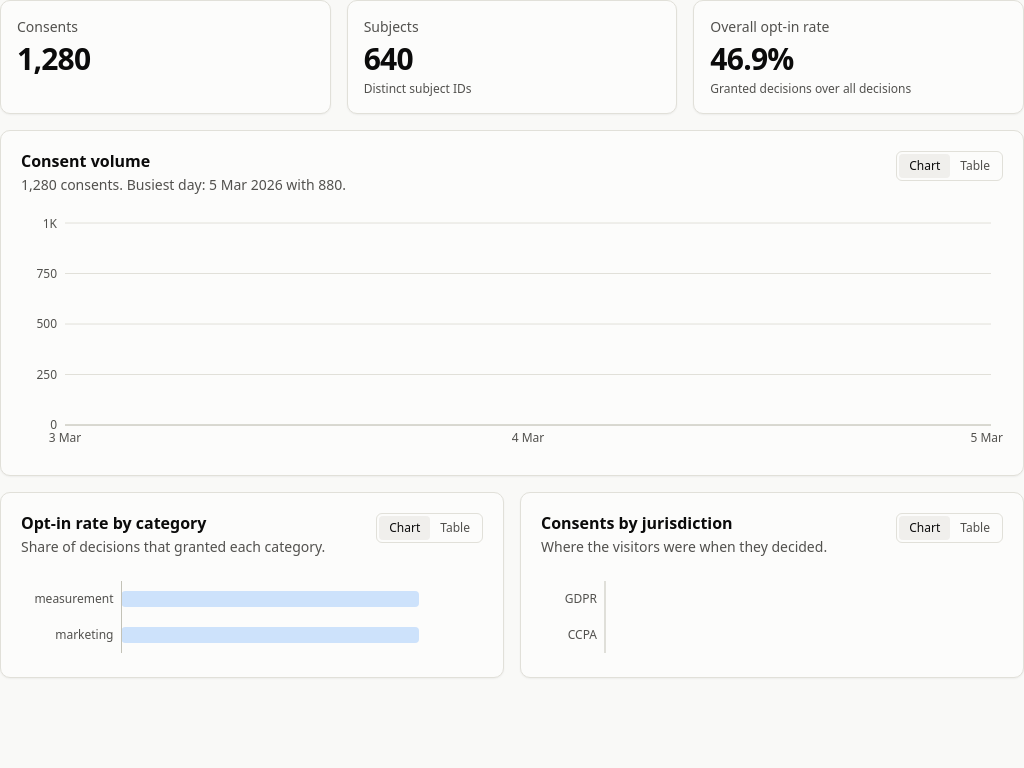
StatsCharts › the purpose table ranks categories by opt-in rate
Click the button "table" in the row of "Opt-in rate by category" at (455, 528), box [430, 516, 480, 540]
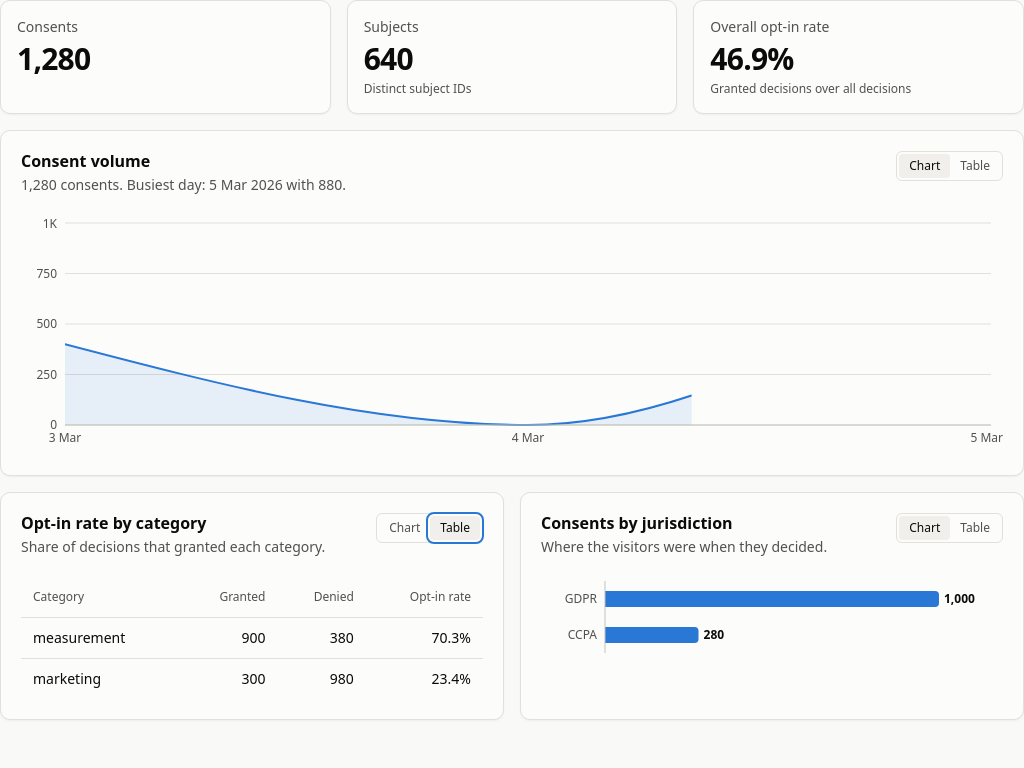
expect the row "measurement 900 380 70.3%" is shown: met, box [21, 618, 483, 658]
expect the row "marketing 300 980 23.4%" is shown: met, box [21, 658, 483, 698]
